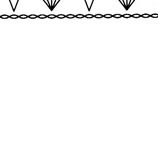double treble: (1, 0, 83, 32)
enseble_chain: (106, 2, 158, 25), (119, 0, 135, 9)
